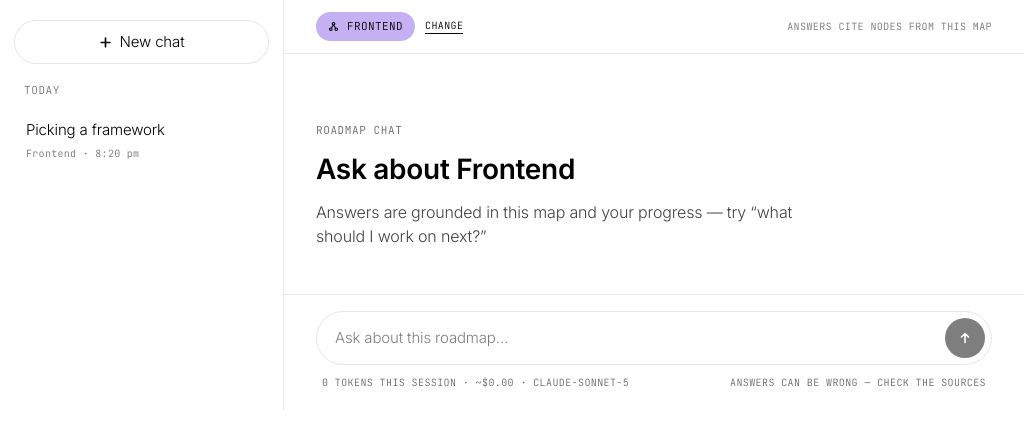
Scenario: ChatScreen send flow › shows the mapped SSE error and keeps the user bubble (message persisted)
Type "hi" into the field named "Message the tutor" at coordinates (635, 338), box [335,327,935,349]
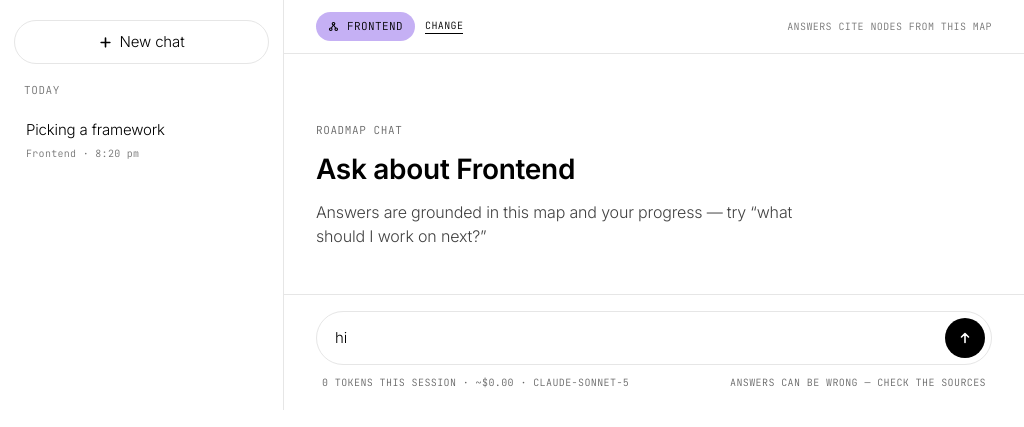
Click the button named "Send" at coordinates (965, 338), box [945,318,985,358]
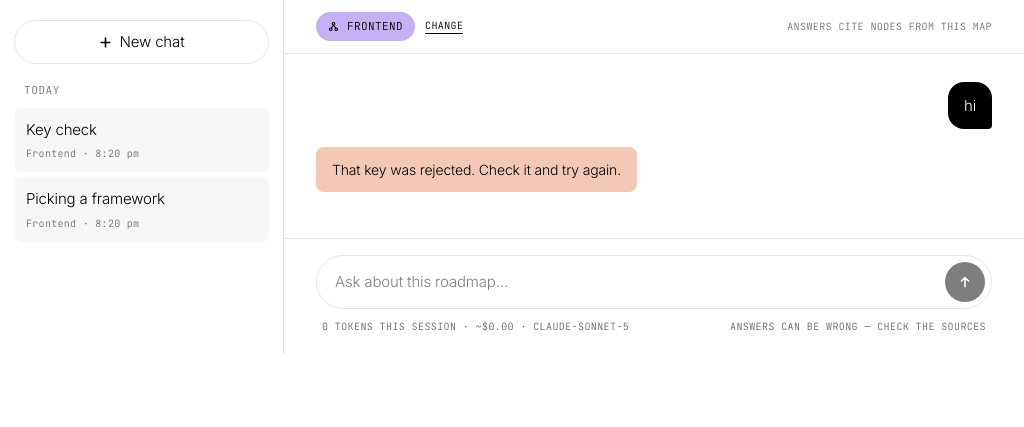
Check: the text "hi" is shown, box [948,82,992,129]
Check: the text "That key was rejected. Check it and try again." is shown, box [316,147,637,192]
